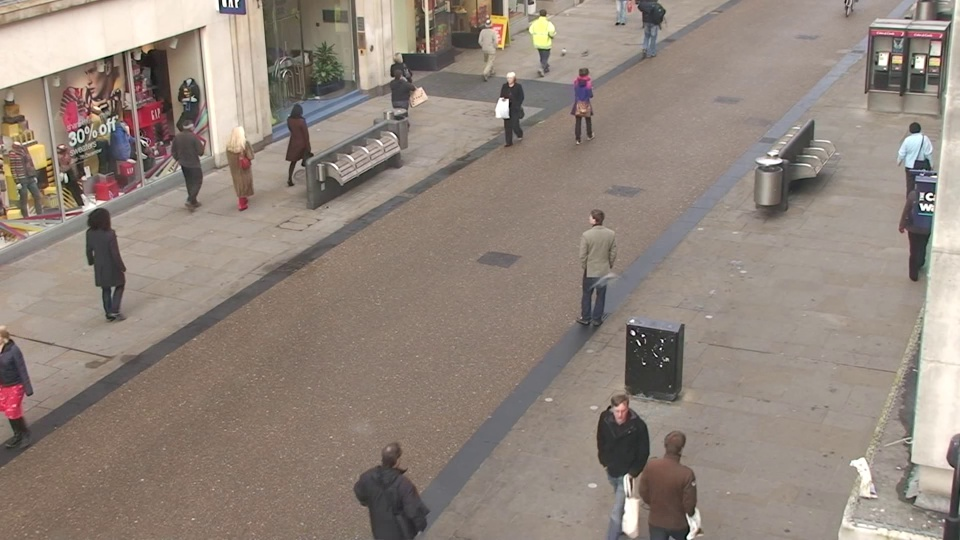pedestrian: (593, 388, 648, 540), (643, 420, 702, 540), (364, 432, 426, 540), (80, 205, 132, 322), (578, 203, 616, 323), (889, 118, 934, 217), (171, 114, 209, 207), (223, 121, 260, 215), (282, 100, 316, 190), (385, 66, 415, 147), (498, 69, 527, 151), (570, 64, 597, 145), (385, 51, 413, 128), (476, 16, 501, 84), (530, 7, 553, 72)
